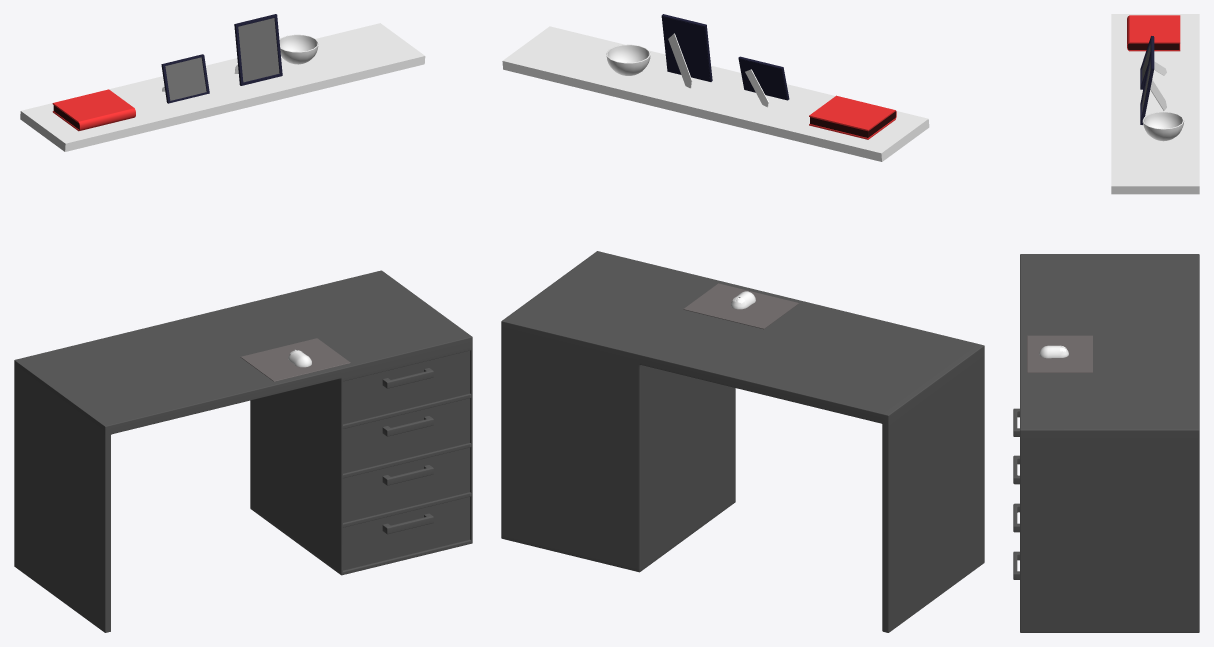
File: Library2.fbx
The picture shows the model from 3 angles, left to right: view 1: azimuth 30°, elevation 25°; view 2: azimuth 150°, elevation 25°; view 3: azimuth 270°, elevation 25°; orthographic projection. The views are drawn at different scales.
Visible parts, largest first — view 1: pCube70, pasted__pCube75, pCube73, pCube74, pCube71, pCube72, polySurface1 (×2), polySurface2 (×2), pasted__pPlane6, pasted__pCube112, pCube104, pSphere1; view 2: pCube70, pasted__pCube75, polySurface1 (×2), pasted__pPlane6, pasted__pCube112, pSphere1; view 3: pCube70, pasted__pCube75, pasted__pPlane6, pasted__pCube112, pSphere1, polySurface1 (×2), pCube104, pCube99.
Part boxes in pixels (x1,y1,x2,y2): pCube70: (14, 270, 472, 632); pasted__pCube75: (20, 23, 425, 151); pCube73: (343, 447, 469, 522); pCube74: (343, 398, 469, 473); pCube71: (343, 350, 469, 424); pCube72: (343, 497, 469, 570); polySurface1 (×2): (161, 14, 282, 103); polySurface2 (×2): (165, 18, 279, 100); pasted__pPlane6: (240, 338, 350, 381); pasted__pCube112: (52, 89, 135, 131); pCube104: (382, 368, 433, 534); pSphere1: (279, 34, 318, 64); pCube70: (501, 251, 984, 632); pasted__pCube75: (502, 26, 929, 161); polySurface1 (×2): (661, 14, 789, 100); pasted__pPlane6: (683, 283, 799, 329); pasted__pCube112: (809, 95, 896, 139); pSphere1: (606, 44, 650, 75); pCube70: (1020, 254, 1199, 632); pasted__pCube75: (1111, 14, 1199, 194); pasted__pPlane6: (1027, 335, 1092, 372); pasted__pCube112: (1127, 15, 1180, 51); pSphere1: (1142, 111, 1184, 141); polySurface1 (×2): (1140, 36, 1154, 124); pCube104: (1013, 408, 1019, 579); pCube99: (1039, 345, 1068, 358).
Size of the model in its own units: 1.4 by 1.86 by 0.623.
